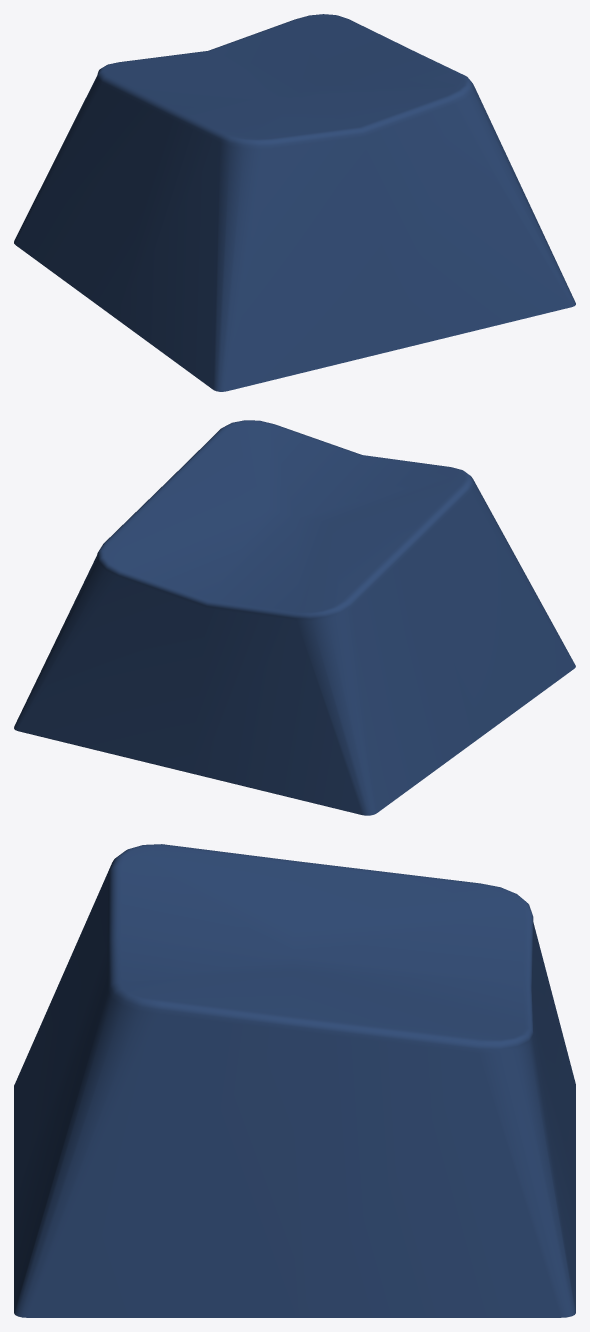
Rendered from cherry1u.glb.
3 views of the same model, one above another, from view 1: azimuth 30°, elevation 25°; view 2: azimuth 150°, elevation 25°; view 3: azimuth 270°, elevation 25° (orthographic). The views are drawn at different scales.
Parts seen in each view (by area): view 1: R4_1U_Mesh.007; view 2: R4_1U_Mesh.007; view 3: R4_1U_Mesh.007.
Boxes of the visible parts, <box> form: R4_1U_Mesh.007: <box>14,14,575,391</box>; R4_1U_Mesh.007: <box>14,420,575,815</box>; R4_1U_Mesh.007: <box>14,844,575,1317</box>.
Size of the model in its own units: 0.0181 by 0.0098 by 0.018.
